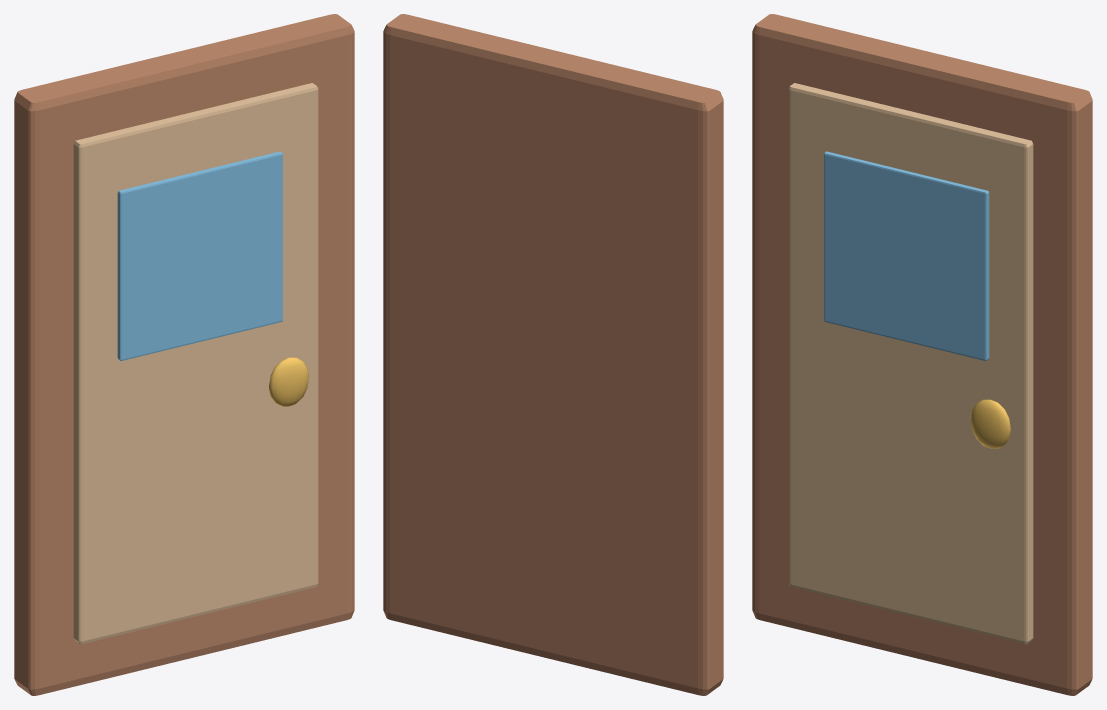
The model's file is house_door.glb.
The picture shows the model from 3 angles, left to right: view 1: azimuth 30°, elevation 25°; view 2: azimuth 150°, elevation 25°; view 3: azimuth 330°, elevation 25°; orthographic projection.
Parts seen in each view (by area): view 1: model; view 2: model; view 3: model.
Boxes of the visible parts, <box> form: model: <box>14,14,354,695</box>; model: <box>383,14,723,695</box>; model: <box>752,14,1092,695</box>.
Size of the model in its own units: 0.72 by 1.25 by 0.12.
